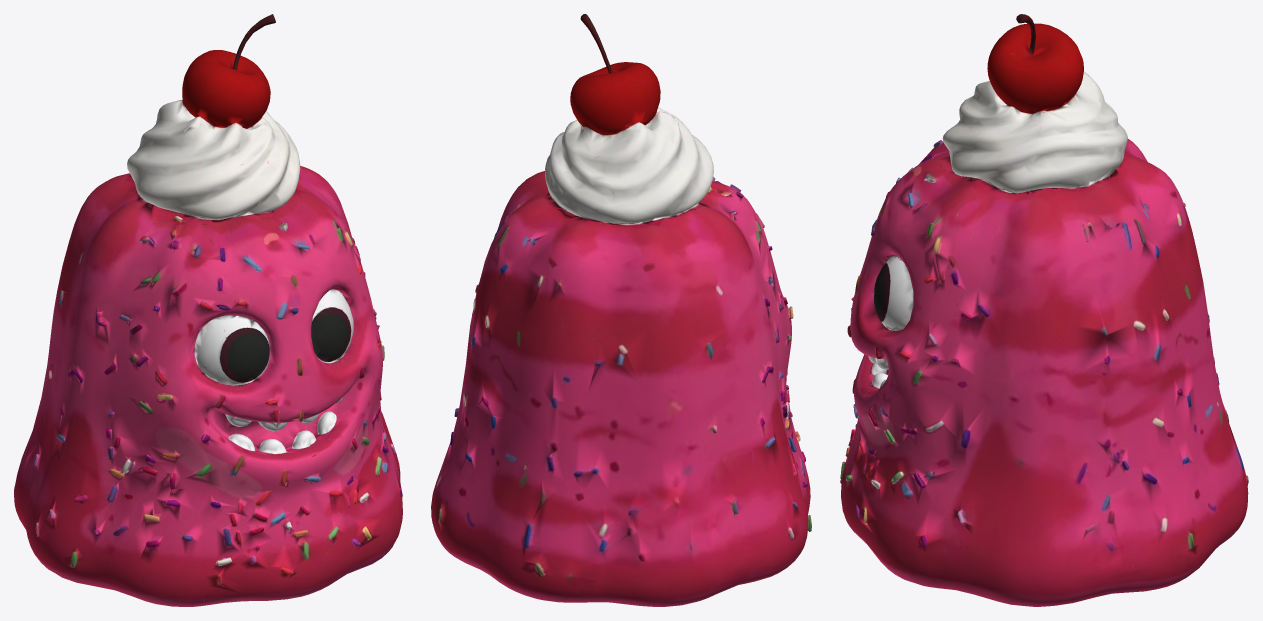
File: gelee.glb
3 renders of one model, left to right at view 1: azimuth 30°, elevation 25°; view 2: azimuth 150°, elevation 25°; view 3: azimuth 270°, elevation 25°, orthographic. The views are drawn at different scales.
Bounding box in the file's own units: 1.33 × 1.9 × 1.29.
1 material, 1 textured.
